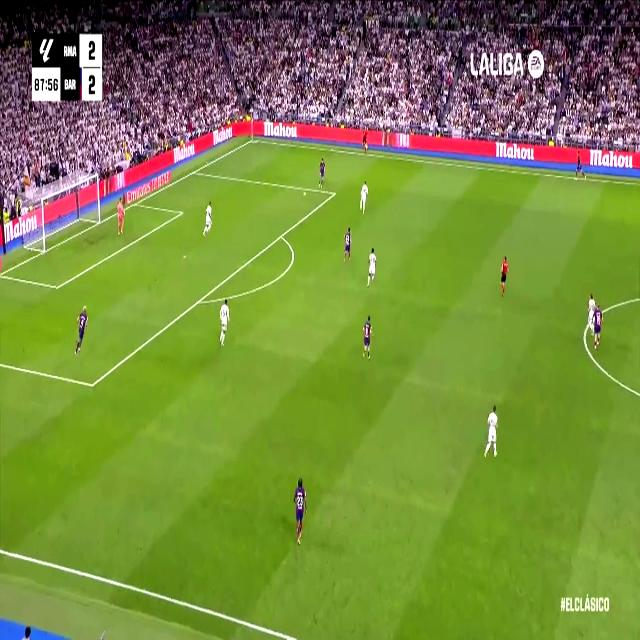bigarea_bottom_inner: (87, 372, 97, 397)
bigarea_top_inner: (331, 187, 336, 199)
bigarea_top_outter: (191, 165, 197, 176)
bottom_arc_area_intersection: (195, 292, 205, 309)
corner: (248, 133, 256, 144)
smallarea_top_inner: (179, 207, 183, 217)
smallarea_top_outter: (133, 198, 139, 208)
top_arc_area_intersection: (278, 228, 284, 242)
